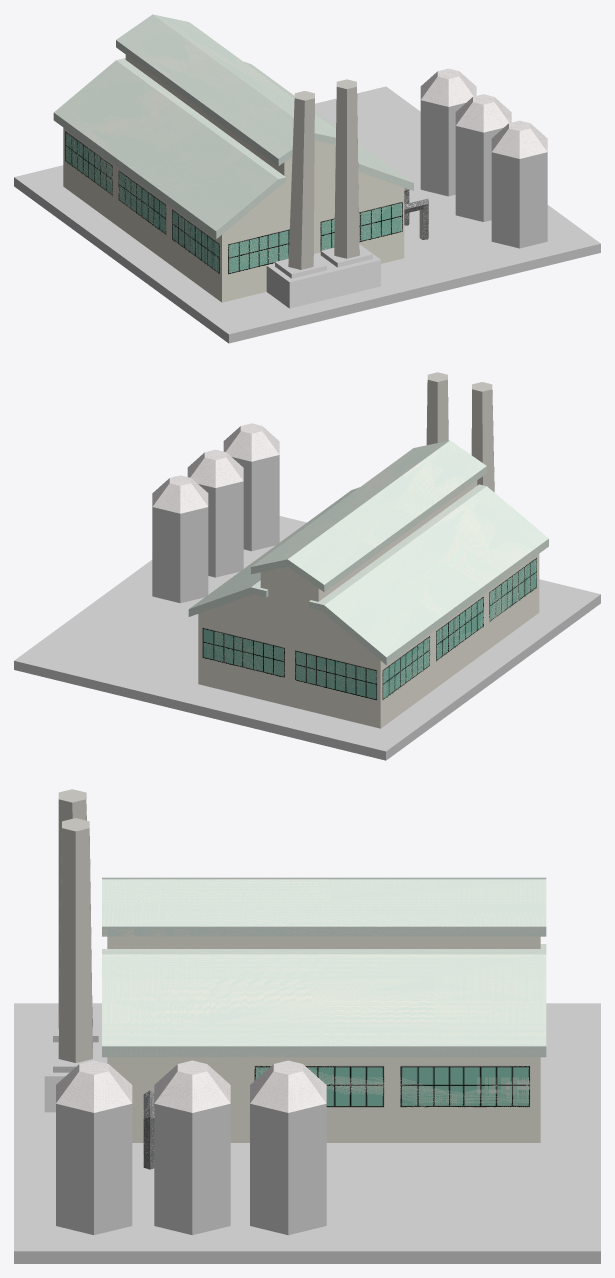
The model's file is factory_1.dae.
The picture shows the model from 3 angles, top to bottom: view 1: azimuth 30°, elevation 25°; view 2: azimuth 150°, elevation 25°; view 3: azimuth 270°, elevation 25°; orthographic projection. The views are drawn at different scales.
Parts seen in each view (by area): view 1: group_0 (×18); view 2: group_0 (×15); view 3: group_0 (×17).
Part boxes in pixels (x1=…): group_0 (×18): x1=14, y1=14, x2=600, y2=343; group_0 (×15): x1=14, y1=372, x2=600, y2=760; group_0 (×17): x1=14, y1=789, x2=600, y2=1263.
Size of the model in its own units: 134 by 134 by 71.65.
Materials: 9 (8 with a texture image).
